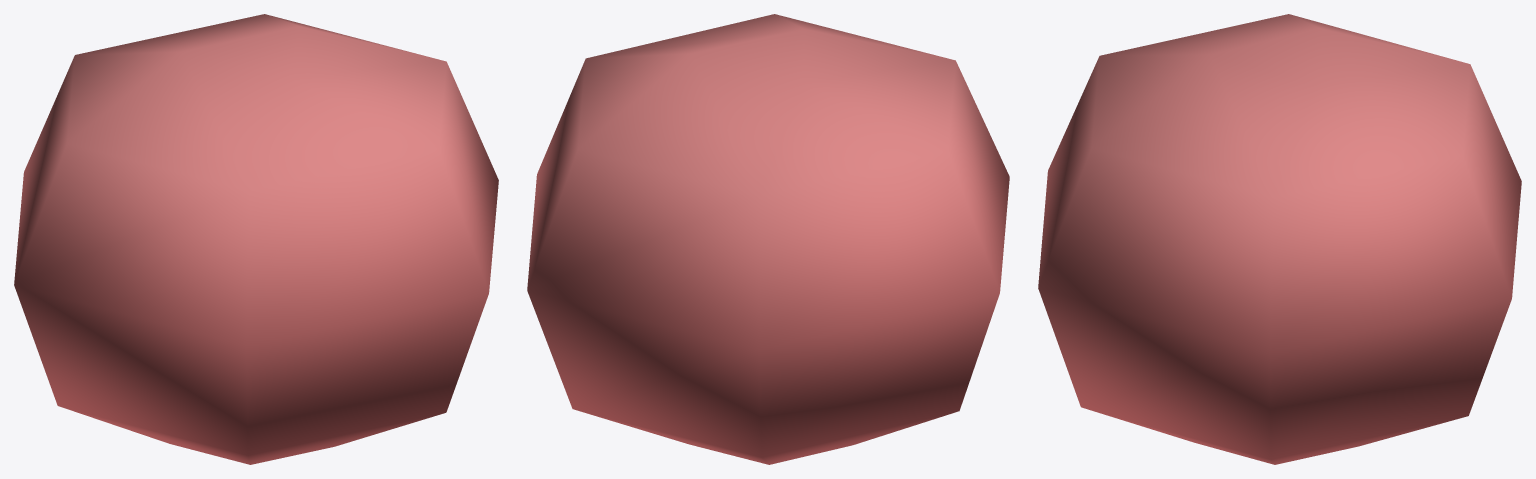
Rendered from LanternRed_0.glb.
3 renders of one model, left to right at view 1: azimuth 30°, elevation 25°; view 2: azimuth 150°, elevation 25°; view 3: azimuth 270°, elevation 25°, orthographic.
Parts seen in each view (by area): view 1: LanternRed; view 2: LanternRed; view 3: LanternRed.
Part boxes in pixels (bbox=[...]): LanternRed: bbox=[14, 14, 498, 464]; LanternRed: bbox=[527, 14, 1009, 464]; LanternRed: bbox=[1038, 14, 1521, 464].
Size of the model in its own units: 0.2355 by 0.1765 by 0.2082.
